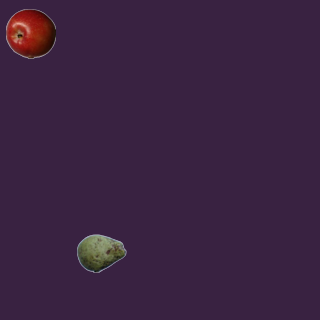Apple Braeburn: (5, 8, 55, 58)
Pear Stone: (76, 228, 126, 278)
